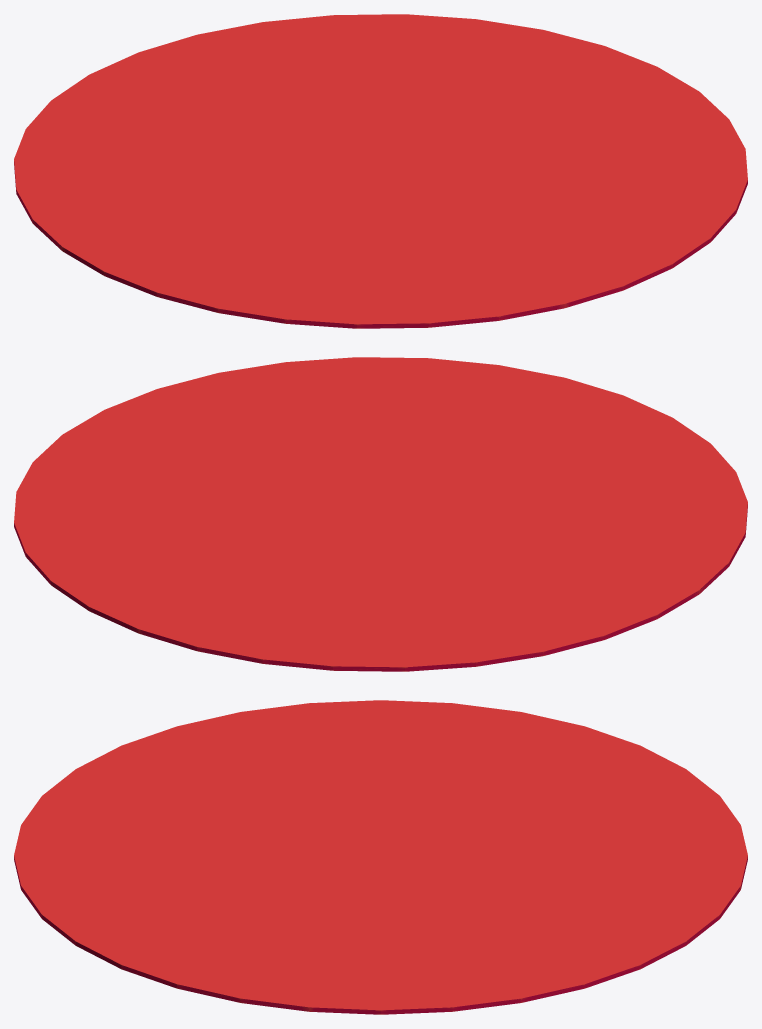
Rendered from marker.obj.
3 renders of one model, top to bottom at view 1: azimuth 30°, elevation 25°; view 2: azimuth 150°, elevation 25°; view 3: azimuth 270°, elevation 25°, orthographic.
Parts seen in each view (by area): view 1: 円柱; view 2: 円柱; view 3: 円柱.
Boxes of the visible parts, <box> form: 円柱: <box>14,14,747,328</box>; 円柱: <box>14,357,747,671</box>; 円柱: <box>14,700,747,1014</box>.
Bounding box in the file's own units: 3 × 0.02 × 3.
Materials: 1 (1 with a texture image).
